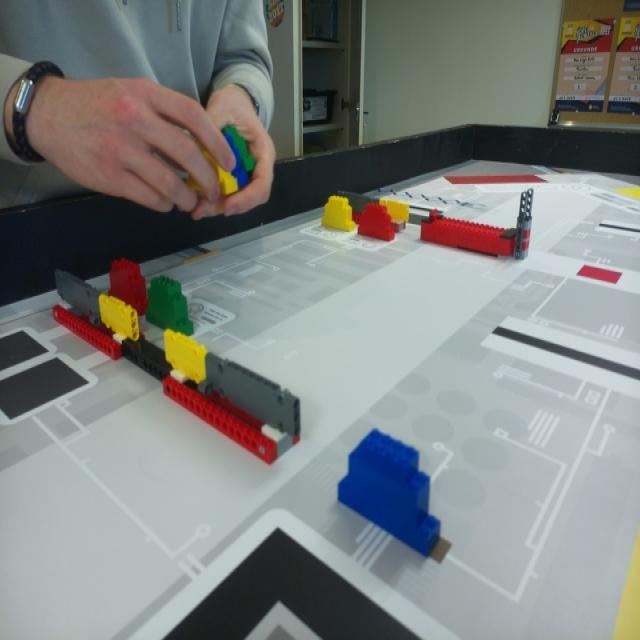blau: (341, 425, 441, 550)
gruen: (148, 278, 194, 334)
rot: (109, 258, 147, 310), (359, 202, 394, 242)
yellow: (324, 200, 355, 231)
